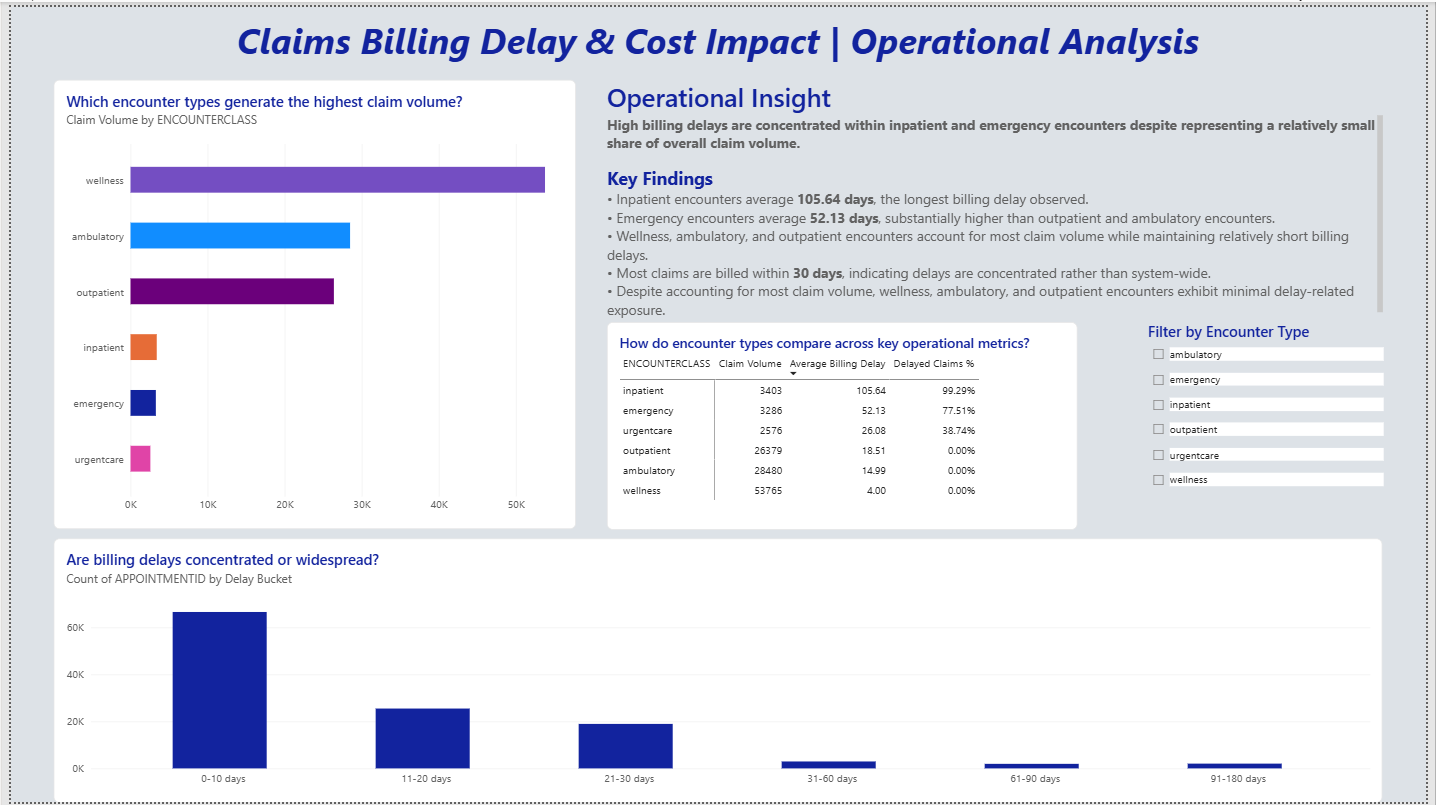

This screenshot's page, from the dashboard's own definition file:
{"tool":"powerbi","page":{"name":"Operational Analysis","canvas":[1920,1080],"ordinal":1},"visuals":[{"type":"clusteredBarChart","title":"Which encounter types generate the highest claim volume?","fields":{"Category":["12_Billing_Delay_Detail.ENCOUNTERCLASS"],"Y":["Measures (2).Claim Volume"]},"box":[58.3,98.3,708.3,610],"z":0},{"type":"clusteredColumnChart","title":"Are billing delays concentrated or widespread?","fields":{"Category":["12_Billing_Delay_Detail.Delay Bucket"],"Y":["CountNonNull(12_Billing_Delay_Detail.APPOINTMENTID)"]},"box":[58.3,721.7,1803.3,358.3],"z":1000},{"type":"pivotTable","title":"How do encounter types compare across key operational metrics?","fields":{"Rows":["12_Billing_Delay_Detail.ENCOUNTERCLASS"],"Values":["Measures (2).Claim Volume","Measures (2).Average Billing Delay","Measures (2).Delayed Claims %"]},"box":[808.6,427.1,638.6,281.4],"z":2000},{"type":"slicer","title":"Filter by Encounter Type","fields":{"Values":["12_Billing_Delay_Detail.ENCOUNTERCLASS"]},"box":[1541.7,426.7,320,251.7],"z":3000},{"type":"textbox","title":"Operational Insight","box":[808.6,98.6,1052.9,328.6],"z":4000},{"type":"textbox","box":[58.3,11.7,1803.3,86.7],"z":5000}]}

Visuals, with their boxes in screenshot pixels (x1, y1, x2, y2), scaled from the page's 1920x1080 canvas onto the 1436x805 screenshot:
"Which encounter types generate the highest claim volume?" clusteredBarChart: detection(44, 73, 573, 528)
"Are billing delays concentrated or widespread?" clusteredColumnChart: detection(44, 538, 1392, 804)
"How do encounter types compare across key operational metrics?" pivotTable: detection(605, 318, 1082, 528)
"Filter by Encounter Type" slicer: detection(1153, 318, 1392, 506)
"Operational Insight" textbox: detection(605, 73, 1392, 318)
textbox: detection(44, 9, 1392, 73)
